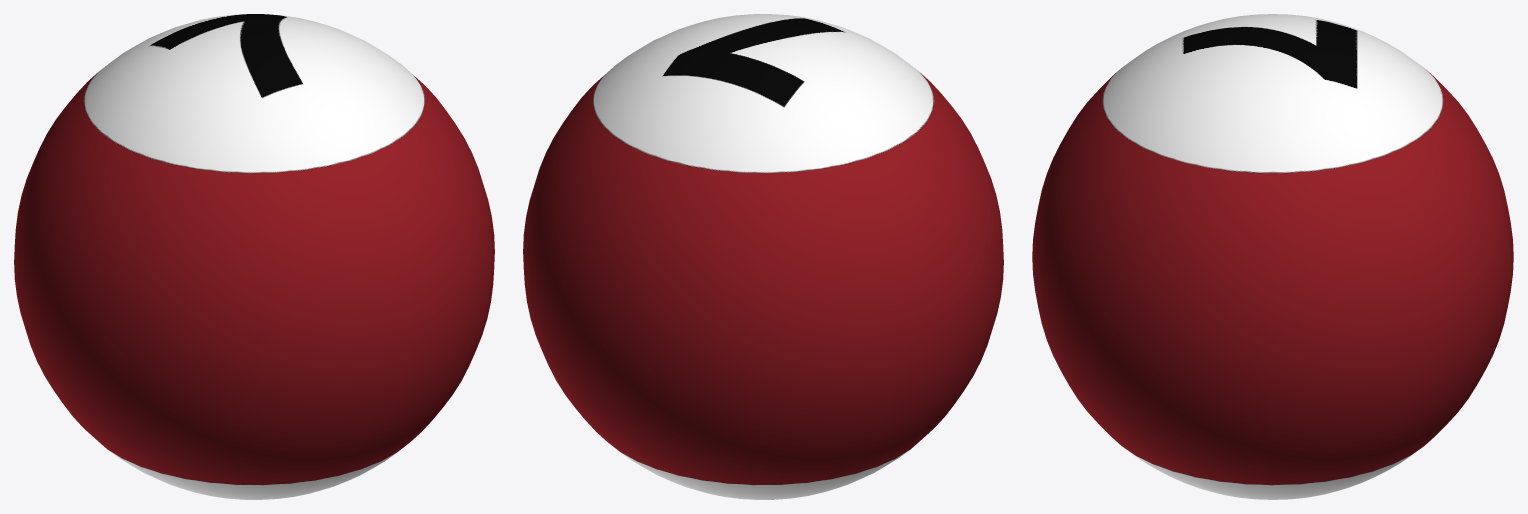
3 renders of one model, left to right at view 1: azimuth 30°, elevation 25°; view 2: azimuth 150°, elevation 25°; view 3: azimuth 270°, elevation 25°, orthographic.
Parts seen in each view (by area): view 1: 7-seven; view 2: 7-seven; view 3: 7-seven.
Boxes of the visible parts, left/top/right/bottom form: 7-seven: left=14, top=14, right=494, bottom=499; 7-seven: left=523, top=14, right=1003, bottom=499; 7-seven: left=1032, top=14, right=1513, bottom=499.
Size of the model in its own units: 0.5015 by 0.5088 by 0.5015.
Materials: 1 (1 with a texture image).
